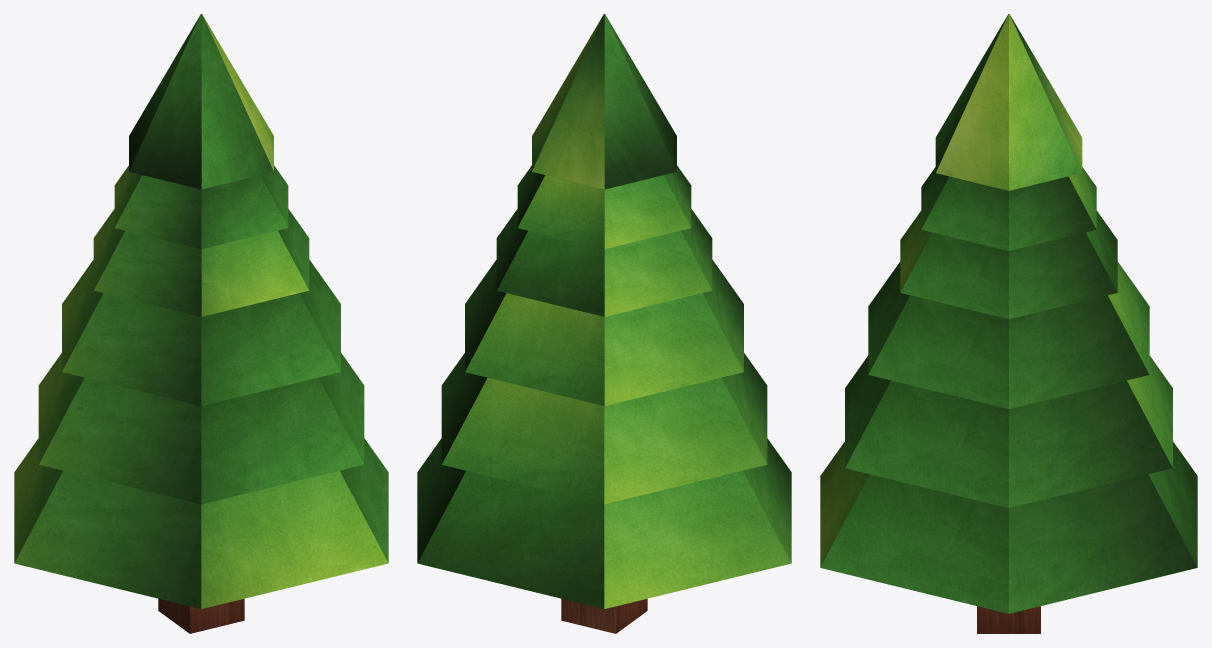
The model's file is Tree_v4.fbx.
3 views of the same model, side by side, from view 1: azimuth 30°, elevation 25°; view 2: azimuth 150°, elevation 25°; view 3: azimuth 270°, elevation 25° (orthographic).
Visible parts, largest first — view 1: Tree_v4; view 2: Tree_v4; view 3: Tree_v4.
Part boxes in pixels (left/top/right/bottom): Tree_v4: left=14, top=14, right=388, bottom=633; Tree_v4: left=417, top=14, right=791, bottom=633; Tree_v4: left=820, top=14, right=1197, bottom=633.
Bounding box in the file's own units: 4.64 × 7.13 × 4.02.
